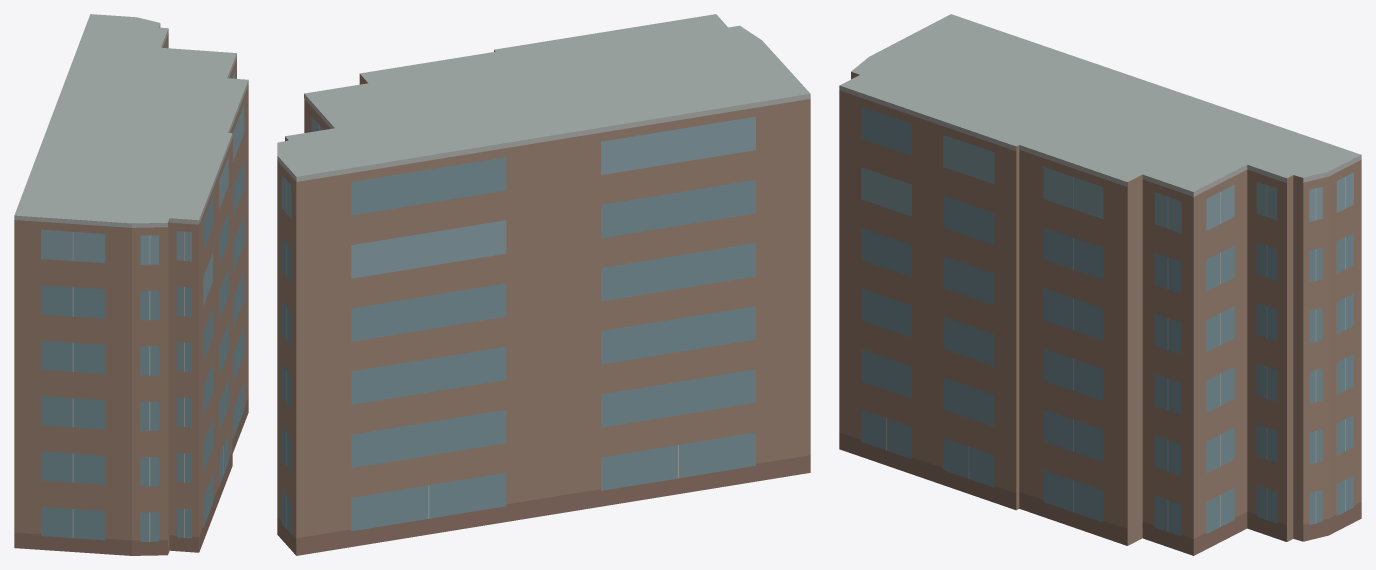
The model's file is survey-upis-32740795.glb.
The picture shows the model from 3 angles, left to right: view 1: azimuth 30°, elevation 25°; view 2: azimuth 150°, elevation 25°; view 3: azimuth 270°, elevation 25°; orthographic projection. The views are drawn at different scales.
Parts seen in each view (by area): view 1: survey-upis-32740795.tmp; view 2: survey-upis-32740795.tmp; view 3: survey-upis-32740795.tmp.
Boxes of the visible parts, box(x1,y1,x2,y2) form: survey-upis-32740795.tmp: box(14, 14, 248, 555); survey-upis-32740795.tmp: box(277, 14, 810, 555); survey-upis-32740795.tmp: box(839, 14, 1361, 555).
Size of the model in its own units: 19.22 by 18.3 by 23.81.
